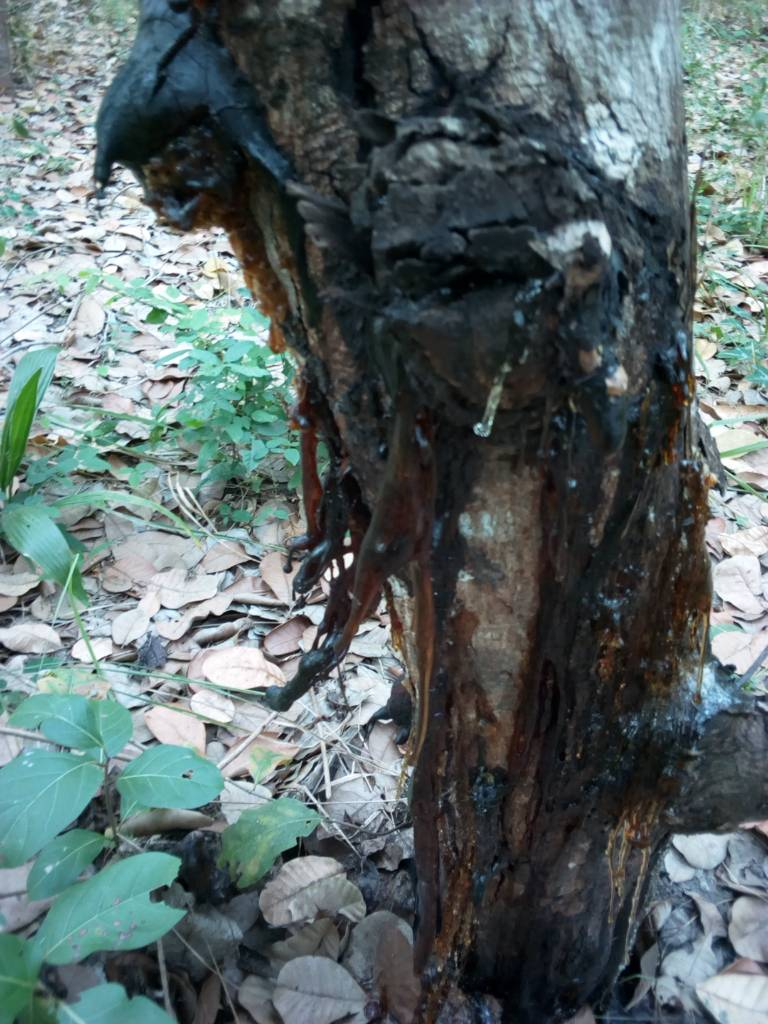Gommose: (285, 377, 486, 972), (538, 239, 715, 863)
